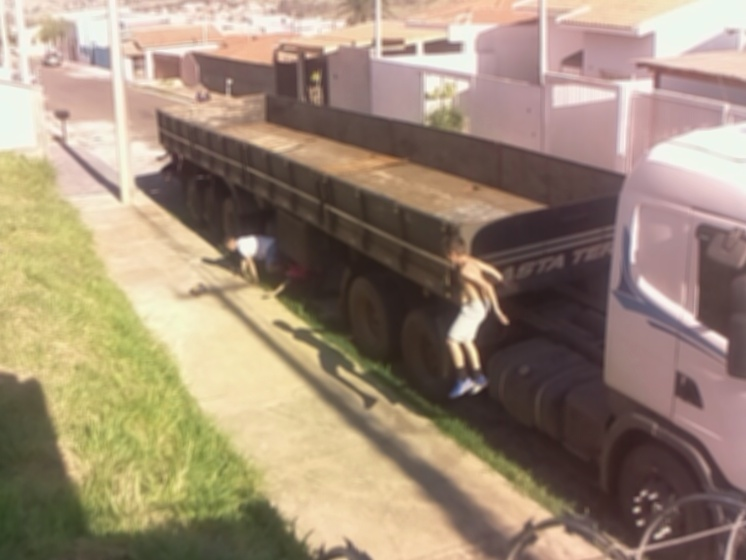person: (438, 231, 513, 404), (218, 228, 284, 287), (154, 139, 190, 189), (190, 84, 216, 104)
